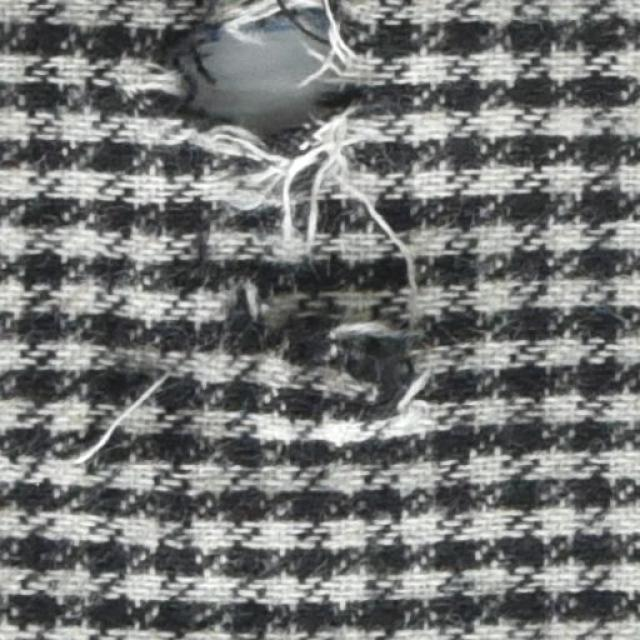Hole: (188, 8, 328, 137)
Snag: (155, 101, 441, 442)
